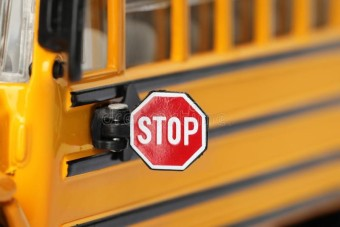SS: (130, 90, 209, 172)
